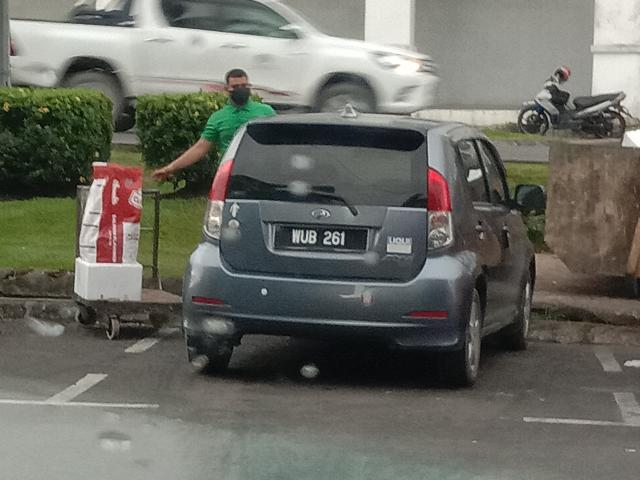License_Plate: (274, 225, 370, 254)
car: (180, 102, 535, 385)
